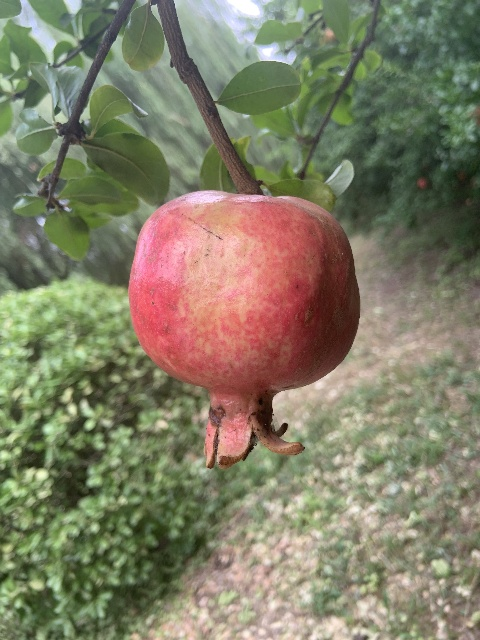ripe: (127, 190, 360, 469)
